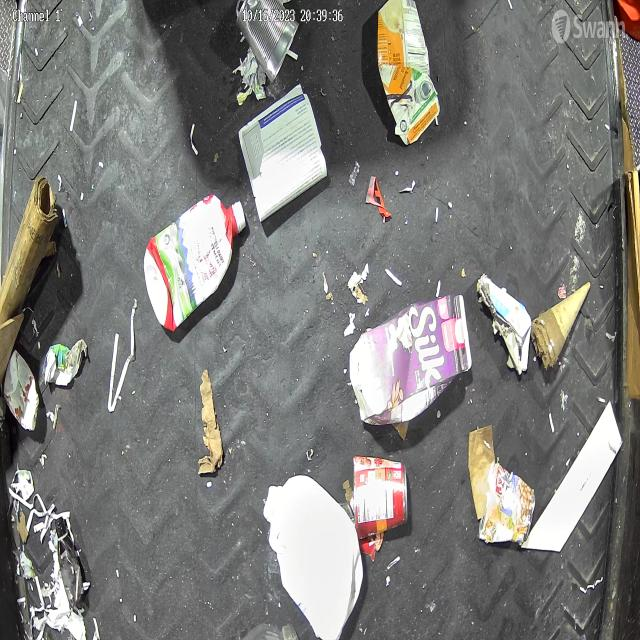can: (348, 452, 412, 555), (236, 0, 298, 94)
milk_jug: (260, 476, 369, 640)
